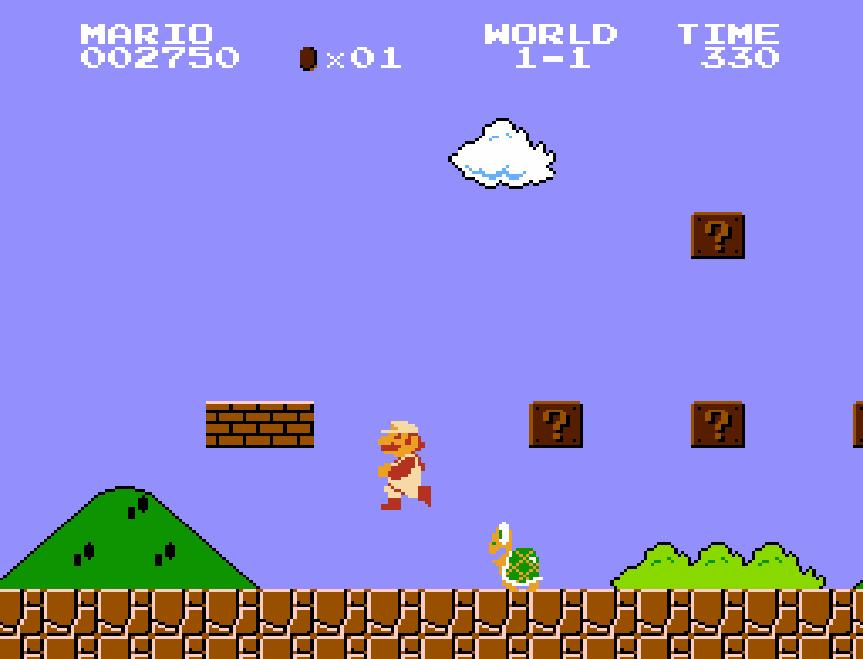fire_mario: (376, 414, 434, 512)
